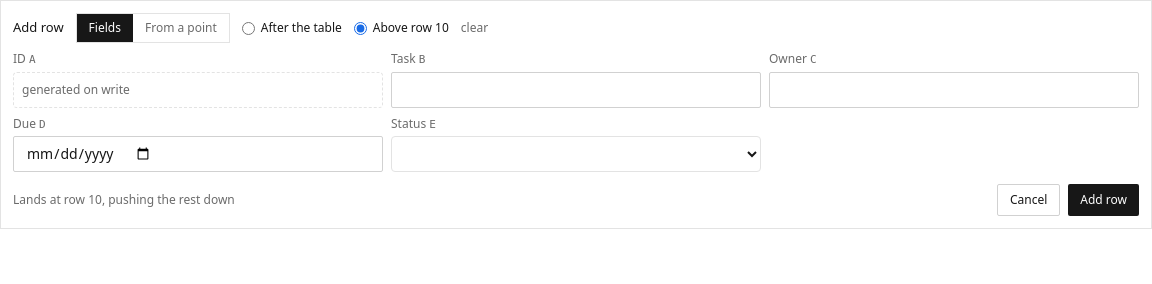
Test: what the API refuses › shows the below-the-table message the same way
The image size is (1152, 284).
In the field labelled "Task B": (576, 90) [391, 72, 761, 108], type "Runbook"
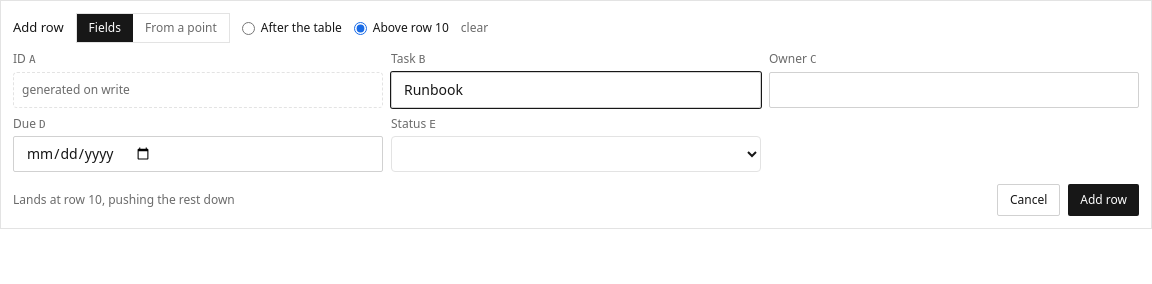
Click the button with test id "add-row-submit": (1104, 200) [1068, 184, 1139, 216]
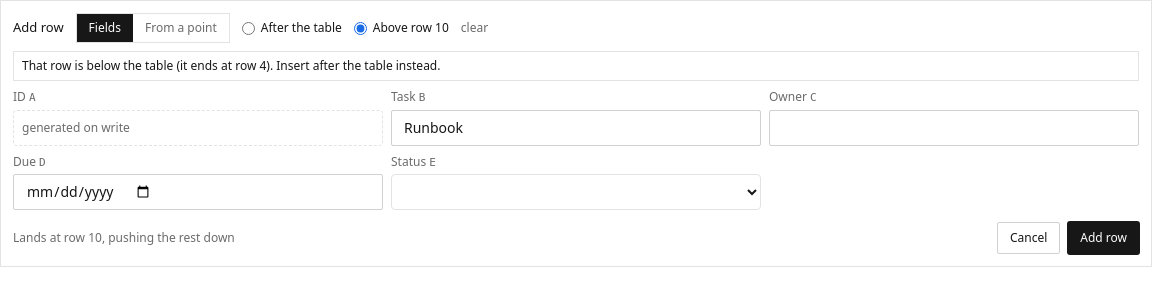
Check: the text with test id "add-row-refused" shows "Insert after the table instead.", box [22, 57, 440, 74]
